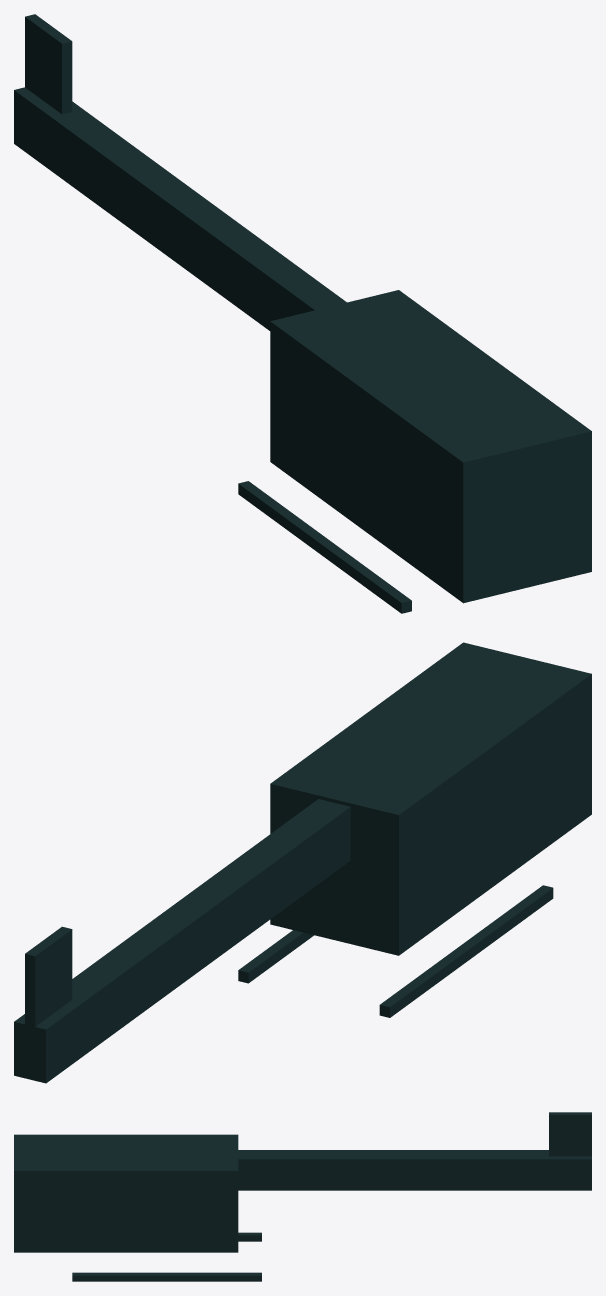
The model's file is oc_police_heli_01_collision.glb.
3 renders of one model, top to bottom at view 1: azimuth 30°, elevation 25°; view 2: azimuth 150°, elevation 25°; view 3: azimuth 270°, elevation 25°, orthographic. The views are drawn at different scales.
Visible parts, largest first — view 1: COL_Cabin, COL_Boom, COL_Fin, COL_Skid_L; view 2: COL_Cabin, COL_Boom, COL_Fin, COL_Skid_L, COL_Skid_R; view 3: COL_Cabin, COL_Boom, COL_Fin, COL_Skid_R, COL_Skid_L.
Part boxes in pixels (<box>): COL_Cabin: <box>270,290,591,603</box>; COL_Boom: <box>14,87,346,330</box>; COL_Fin: <box>25,14,72,114</box>; COL_Skid_L: <box>238,481,411,613</box>; COL_Cabin: <box>270,642,591,955</box>; COL_Boom: <box>14,799,350,1083</box>; COL_Fin: <box>25,926,72,1053</box>; COL_Skid_L: <box>379,885,553,1017</box>; COL_Skid_R: <box>238,930,313,983</box>; COL_Cabin: <box>14,1134,238,1252</box>; COL_Boom: <box>238,1150,591,1190</box>; COL_Fin: <box>549,1112,591,1156</box>; COL_Skid_R: <box>72,1272,261,1281</box>; COL_Skid_L: <box>238,1232,261,1241</box>.
Bounding box in the file's own units: 2.36 × 3.75 × 13.4.
